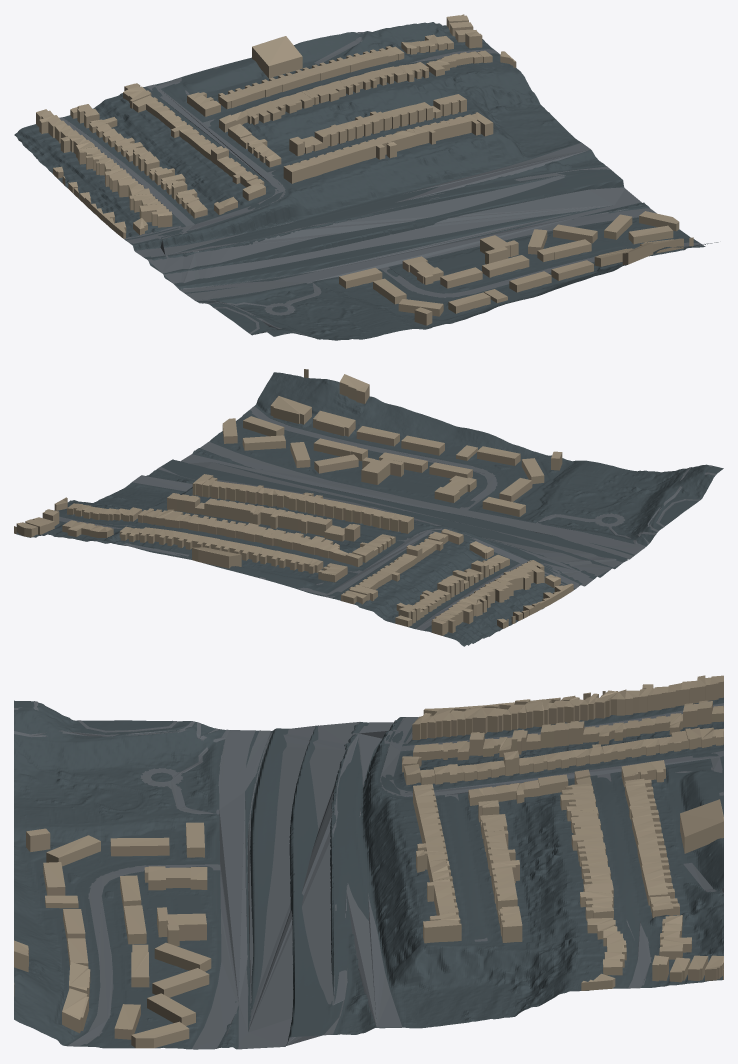
Rendered from epsg26910-1435-10875.lod0.glb.
3 renders of one model, top to bottom at view 1: azimuth 30°, elevation 25°; view 2: azimuth 150°, elevation 25°; view 3: azimuth 270°, elevation 25°, orthographic. The views are drawn at different scales.
Visible parts, largest first — view 1: epsg26910-1435-10875-lod0; view 2: epsg26910-1435-10875-lod0; view 3: epsg26910-1435-10875-lod0.
Boxes of the visible parts, bbox=[...] form: epsg26910-1435-10875-lod0: bbox=[14, 14, 718, 340]; epsg26910-1435-10875-lod0: bbox=[14, 369, 723, 646]; epsg26910-1435-10875-lod0: bbox=[14, 675, 723, 1049].
Bounding box in the file's own units: 384 × 65.36 × 384.
